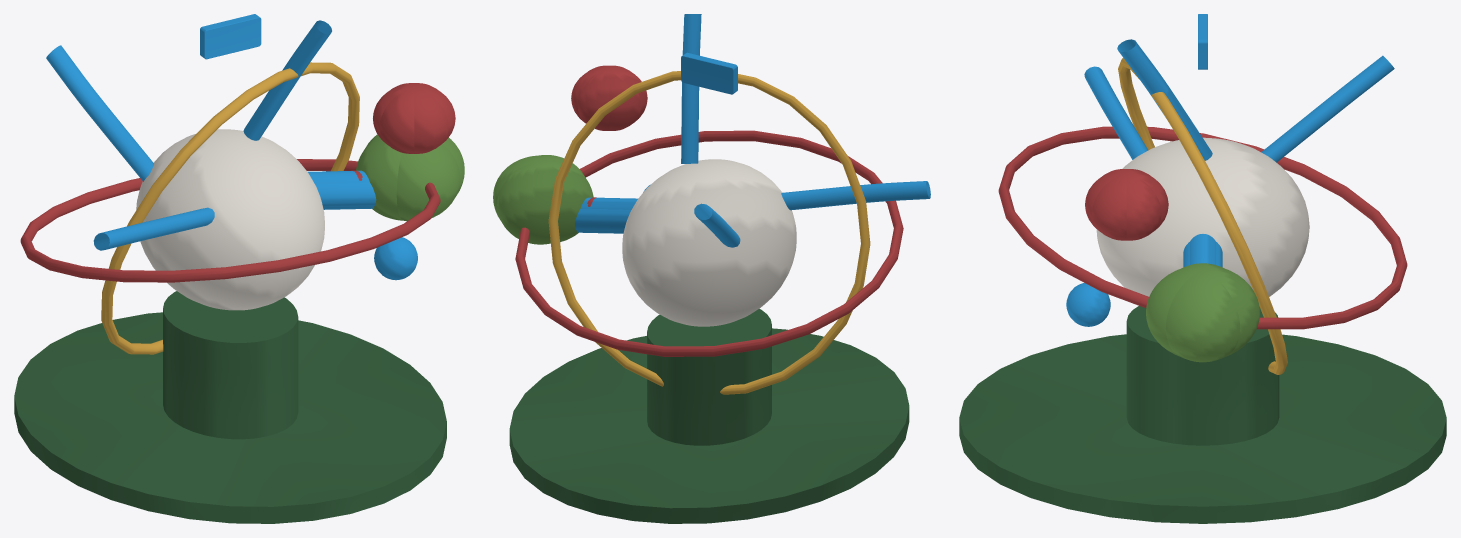
Rendered from 0507_生活中的化学图鉴_二氧化碳.glb.
3 views of the same model, side by side, from view 1: azimuth 30°, elevation 25°; view 2: azimuth 150°, elevation 25°; view 3: azimuth 270°, elevation 25° (orthographic). The views are drawn at different scales.
Visible parts, largest first — view 1: card_0507; view 2: card_0507; view 3: card_0507.
Boxes of the visible parts, x1,y1,x2,y2 form: card_0507: [14, 14, 464, 523]; card_0507: [493, 14, 930, 523]; card_0507: [959, 14, 1446, 523].
Size of the model in its own units: 1.04 by 1 by 1.05.
